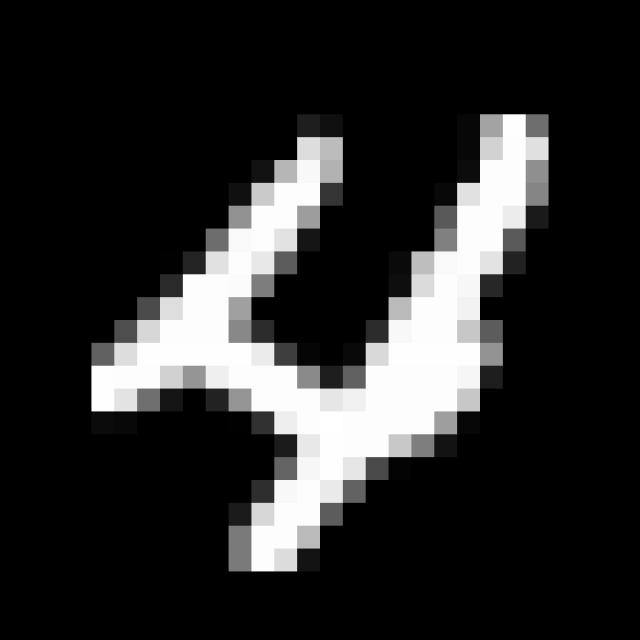four -4-: (71, 98, 575, 585)
